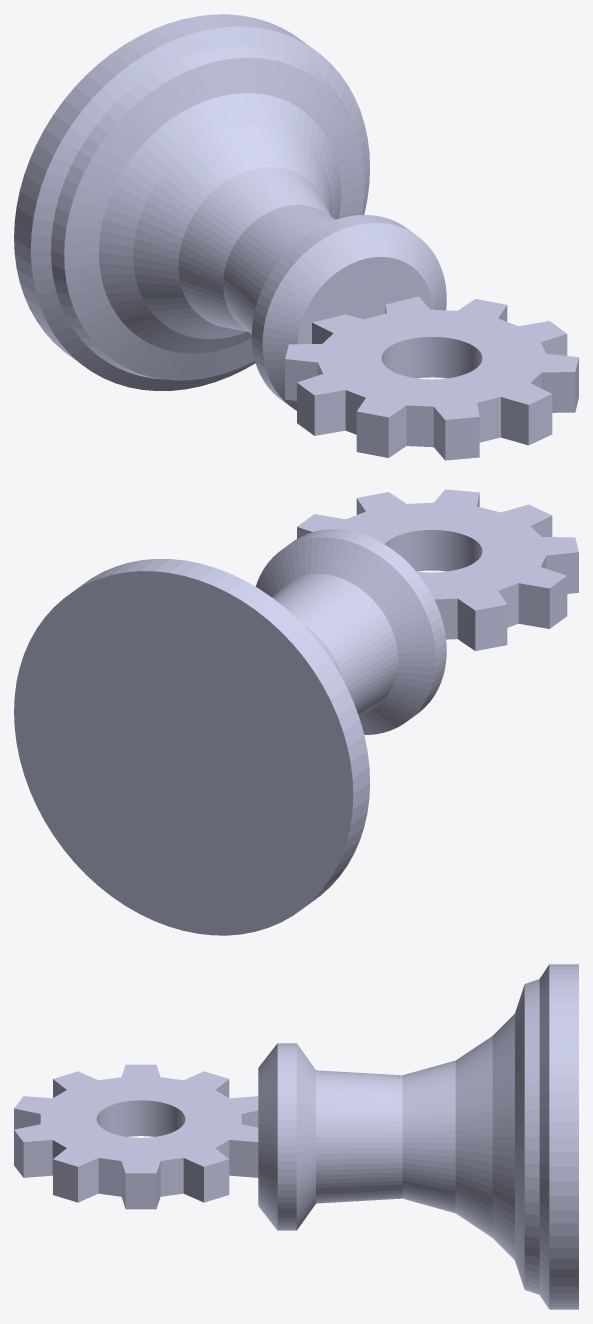
Rendered from yantrik_chandra.glb.
3 views of the same model, one above another, from view 1: azimuth 30°, elevation 25°; view 2: azimuth 150°, elevation 25°; view 3: azimuth 270°, elevation 25° (orthographic). The views are drawn at different scales.
Visible parts, largest first — view 1: geometry_0; view 2: geometry_0; view 3: geometry_0.
Boxes of the visible parts, box(x1,y1,x2,y2) form: geometry_0: box(14, 14, 578, 460); geometry_0: box(14, 489, 578, 935); geometry_0: box(14, 964, 578, 1309).
Bounding box in the file's own units: 0.028 × 0.028 × 0.0458.
